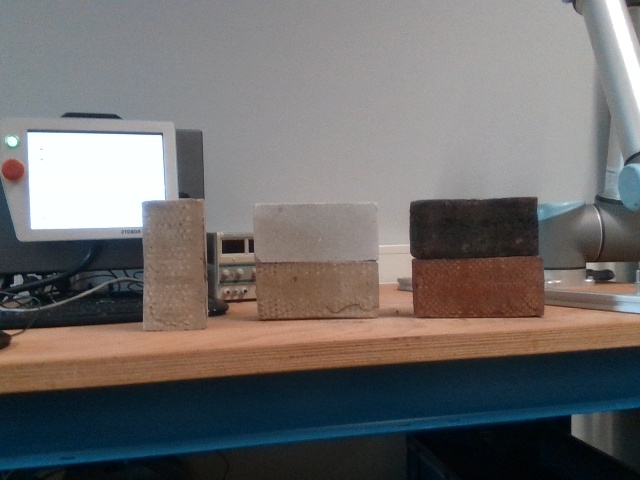brick: (414, 261, 541, 315), (257, 205, 375, 260), (146, 203, 198, 327), (415, 200, 535, 253), (261, 265, 374, 315)
